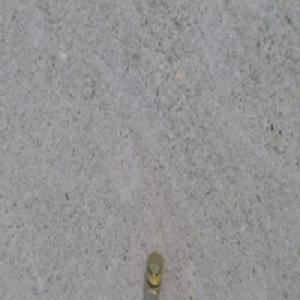BoltNutSet: (144, 253, 163, 299)
